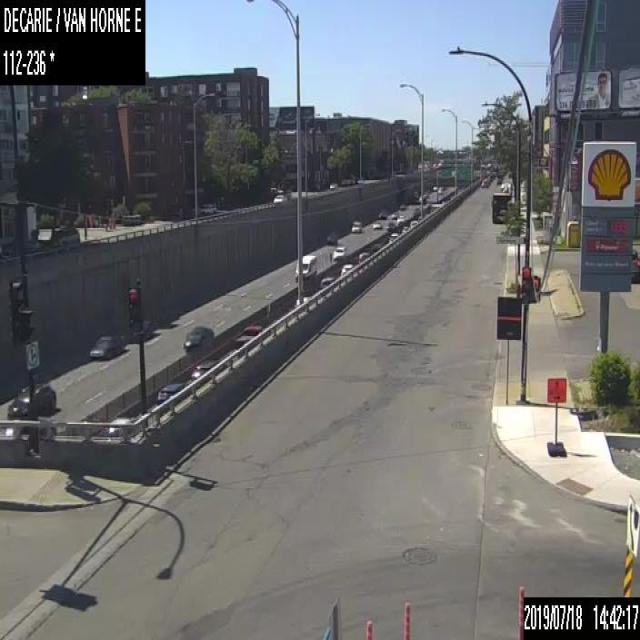construction: (545, 376, 566, 455), (516, 584, 524, 639), (400, 601, 409, 639), (364, 618, 372, 638)
vehicle: (5, 382, 56, 422), (88, 335, 126, 360), (100, 415, 136, 438), (234, 323, 262, 349), (184, 326, 212, 350), (190, 356, 218, 379), (491, 190, 510, 222), (294, 253, 316, 280), (157, 381, 183, 403), (49, 227, 78, 244), (332, 245, 348, 260), (340, 262, 354, 278), (320, 275, 335, 288), (357, 251, 371, 263), (351, 219, 362, 233), (199, 202, 214, 212), (272, 193, 287, 203), (327, 232, 338, 244), (385, 220, 395, 232), (390, 212, 398, 225), (388, 232, 398, 242), (396, 214, 406, 224), (371, 220, 382, 228), (400, 224, 408, 233), (480, 178, 487, 188), (378, 210, 386, 218), (409, 220, 417, 228), (399, 201, 405, 209)
